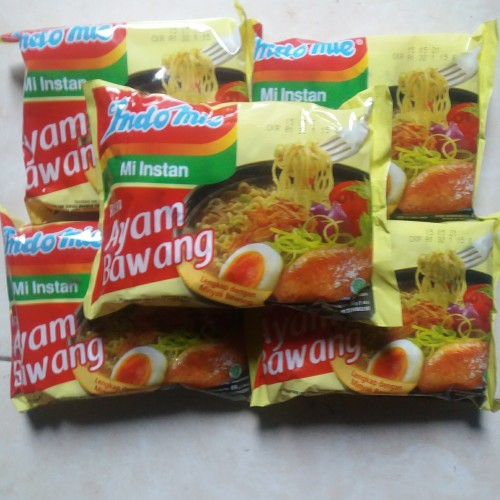indomie ayam bawang: (74, 76, 416, 328), (3, 16, 254, 223), (11, 211, 231, 432), (252, 14, 495, 211), (242, 221, 498, 407)
